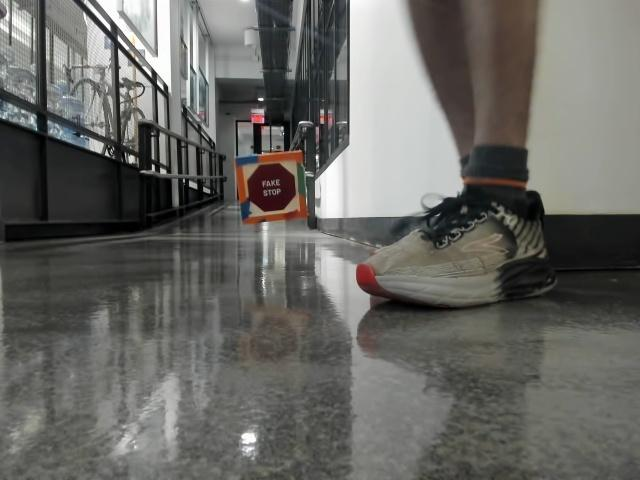Fake Stop: (244, 165, 294, 212)
